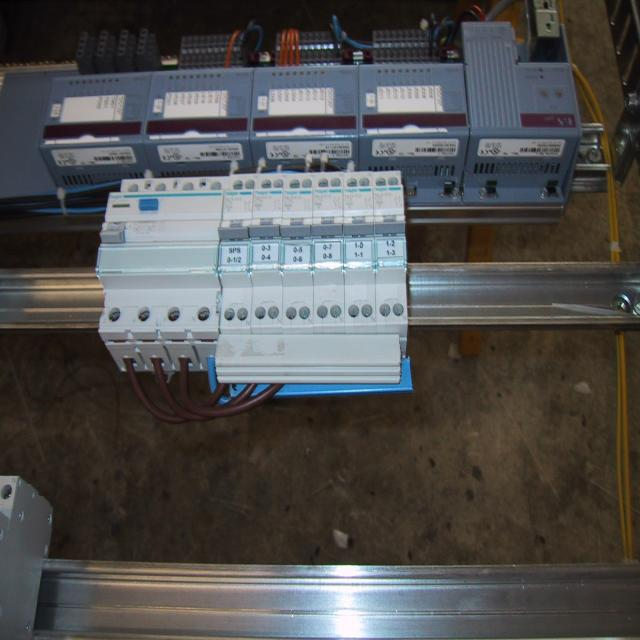FI_Sicherungskombi: (95, 177, 230, 374)
SPS_System_Steuerungskomponente: (460, 23, 584, 135), (142, 68, 255, 143), (37, 71, 153, 144), (249, 66, 360, 138), (357, 64, 465, 135)
Sicherungen_230V: (216, 174, 257, 337), (249, 174, 286, 337), (372, 172, 409, 335), (280, 173, 315, 338), (311, 175, 345, 336), (343, 173, 376, 335)
